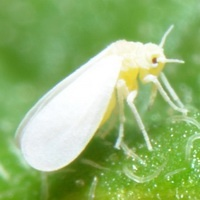insect: (16, 25, 199, 171)
